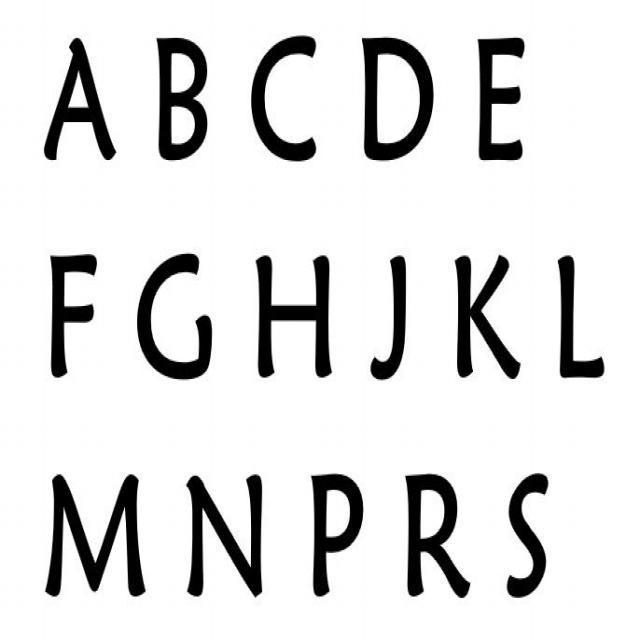A: (32, 36, 119, 171)
B: (140, 28, 222, 166)
C: (243, 28, 332, 168)
D: (352, 34, 433, 170)
E: (469, 32, 540, 168)
F: (40, 244, 110, 386)
G: (125, 248, 219, 387)
H: (238, 246, 342, 391)
J: (363, 247, 420, 392)
K: (436, 248, 534, 392)
L: (546, 248, 614, 395)
M: (39, 466, 156, 603)
N: (175, 470, 271, 605)
P: (292, 464, 373, 604)
R: (393, 470, 483, 600)
S: (497, 465, 571, 602)
